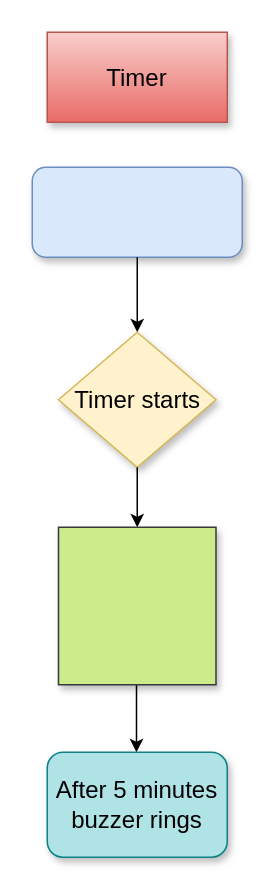
Some shapes in this 278 by 894 pixel diagram are drawn without their labels. Each missing label, with the centre of its shape:
Displays time in Minutes and seconds: point (138, 607)
Turn on the Game Machine: point (138, 214)
